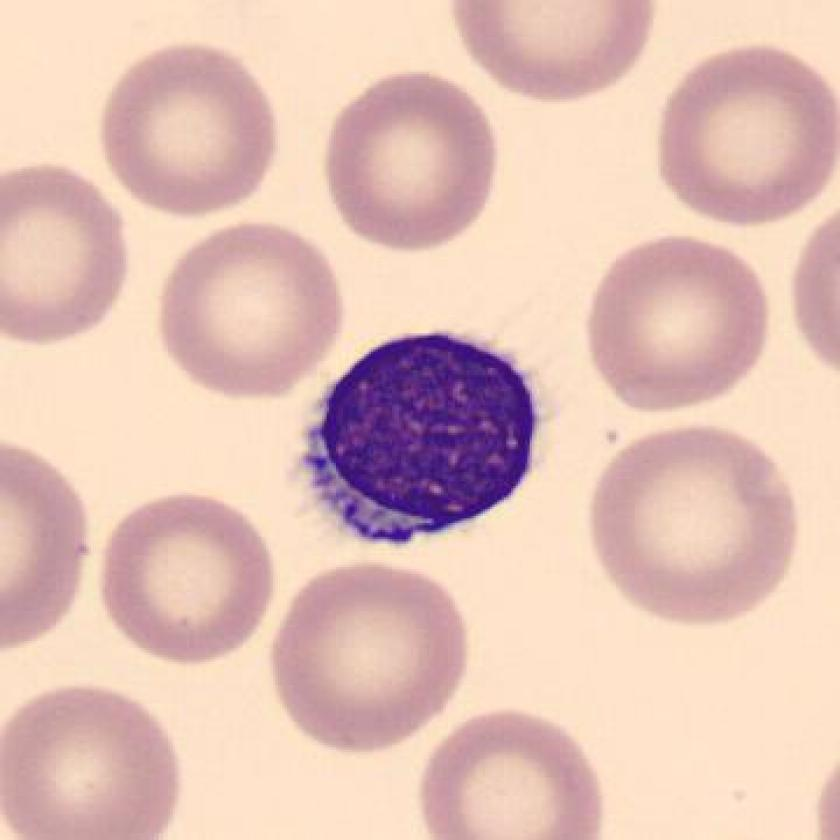lymphocyte: (281, 311, 561, 556)
